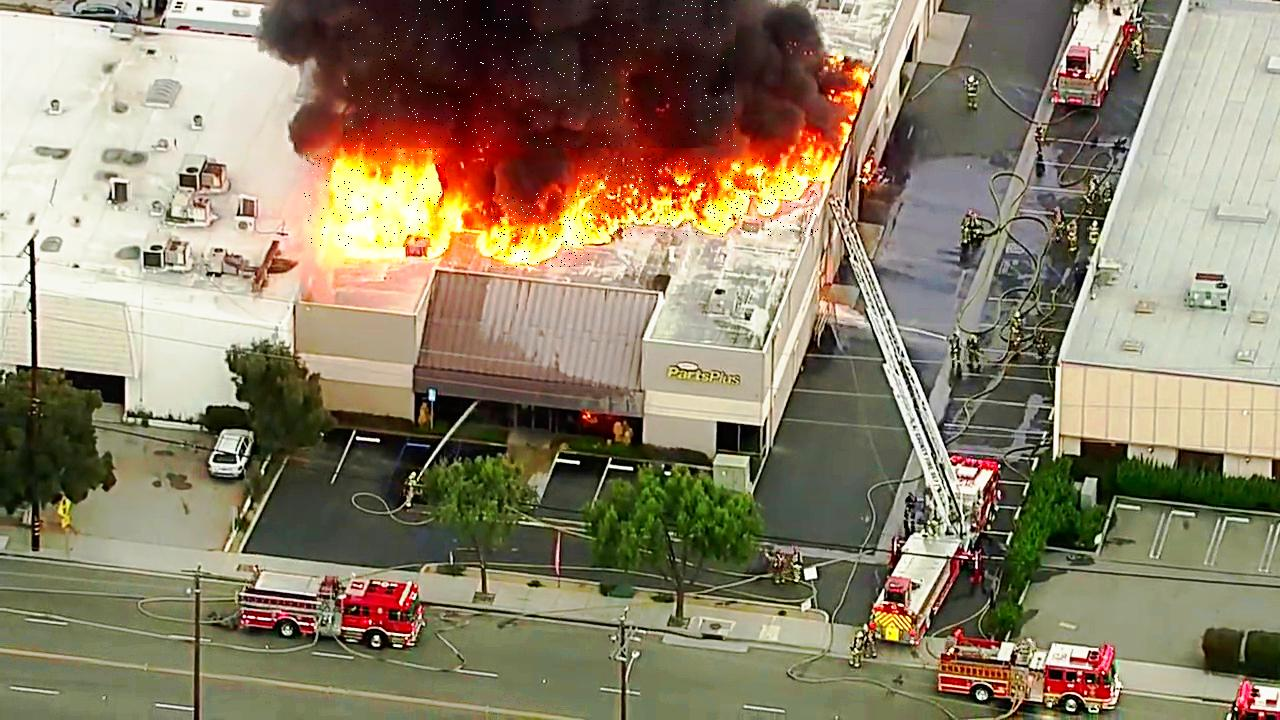fire: (578, 159, 819, 238), (303, 149, 445, 250), (491, 192, 589, 267)
smoke: (343, 0, 736, 148)
